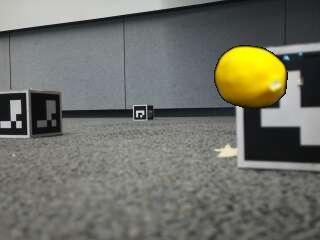lemon: (216, 46, 286, 107)
